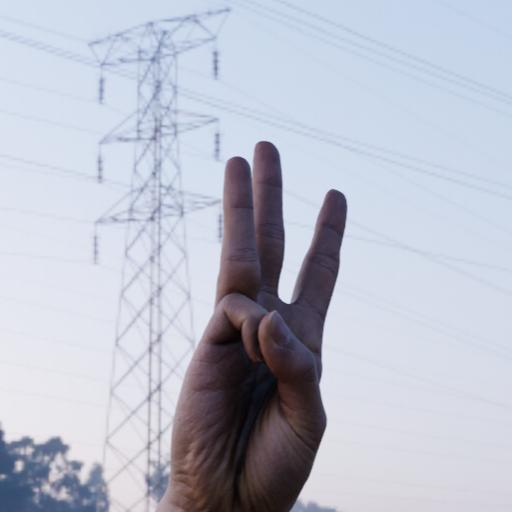W: (150, 131, 362, 512)
